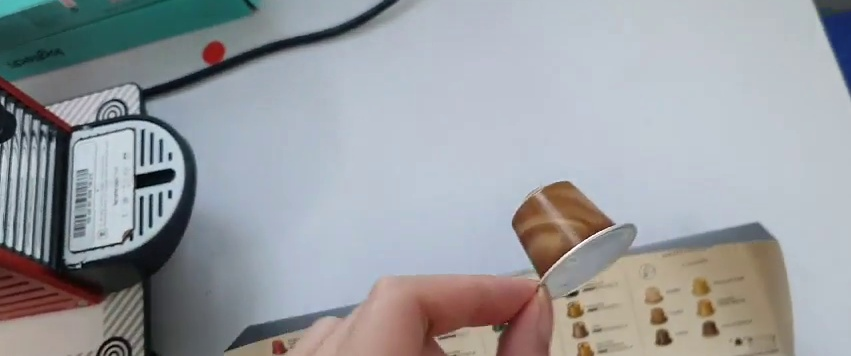capsule_12: (510, 177, 641, 302)
